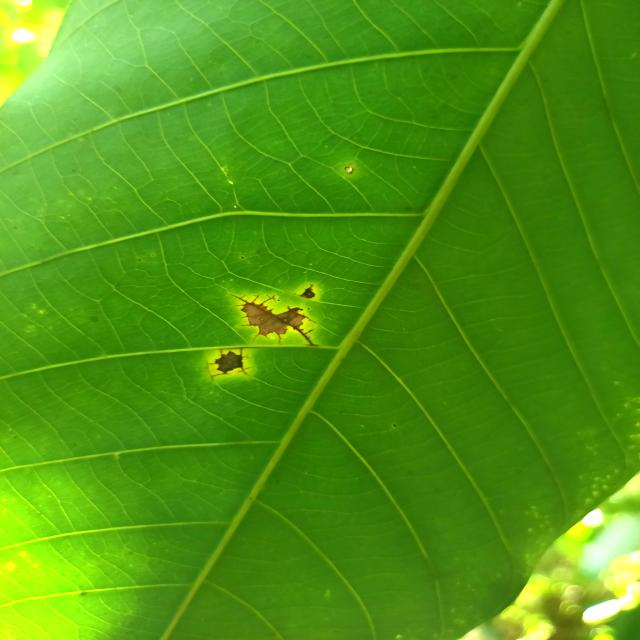Colletotrichum: (307, 308, 310, 310), (278, 300, 280, 301)
Corynespora: (228, 293, 318, 346), (206, 347, 254, 380)
